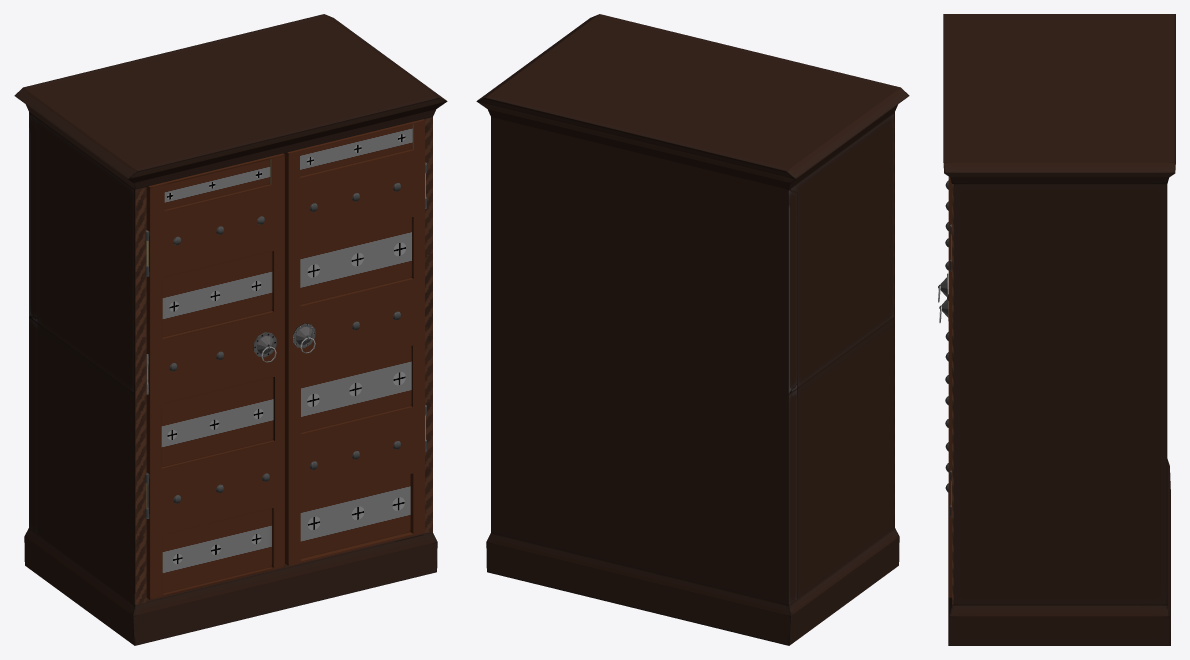
File: old rustic wardrobe.fbx
3 views of the same model, side by side, from view 1: azimuth 30°, elevation 25°; view 2: azimuth 150°, elevation 25°; view 3: azimuth 270°, elevation 25° (orthographic).
Parts seen in each view (by area): view 1: Wardrobe body, Right Hinge, Left hinge; view 2: Wardrobe body; view 3: Wardrobe body, Right Hinge.
Part boxes in pixels (x1=…): Wardrobe body: x1=14, y1=14, x2=447, y2=645; Right Hinge: x1=284, y1=119, x2=426, y2=565; Left hinge: x1=145, y1=153, x2=284, y2=599; Wardrobe body: x1=476, y1=14, x2=909, y2=645; Wardrobe body: x1=943, y1=14, x2=1175, y2=645; Right Hinge: x1=939, y1=177, x2=951, y2=597.
Bounding box in the file's own units: 444 × 633 × 283.
